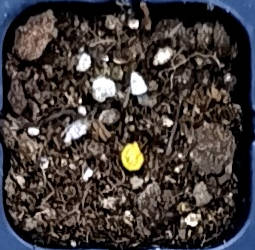pepper seed: (47, 56, 192, 227)
